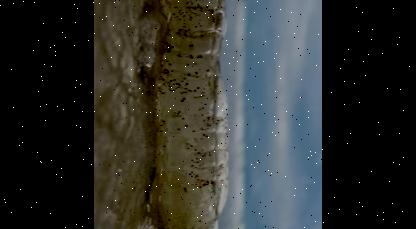Plastic Bottle: (155, 0, 228, 229)
